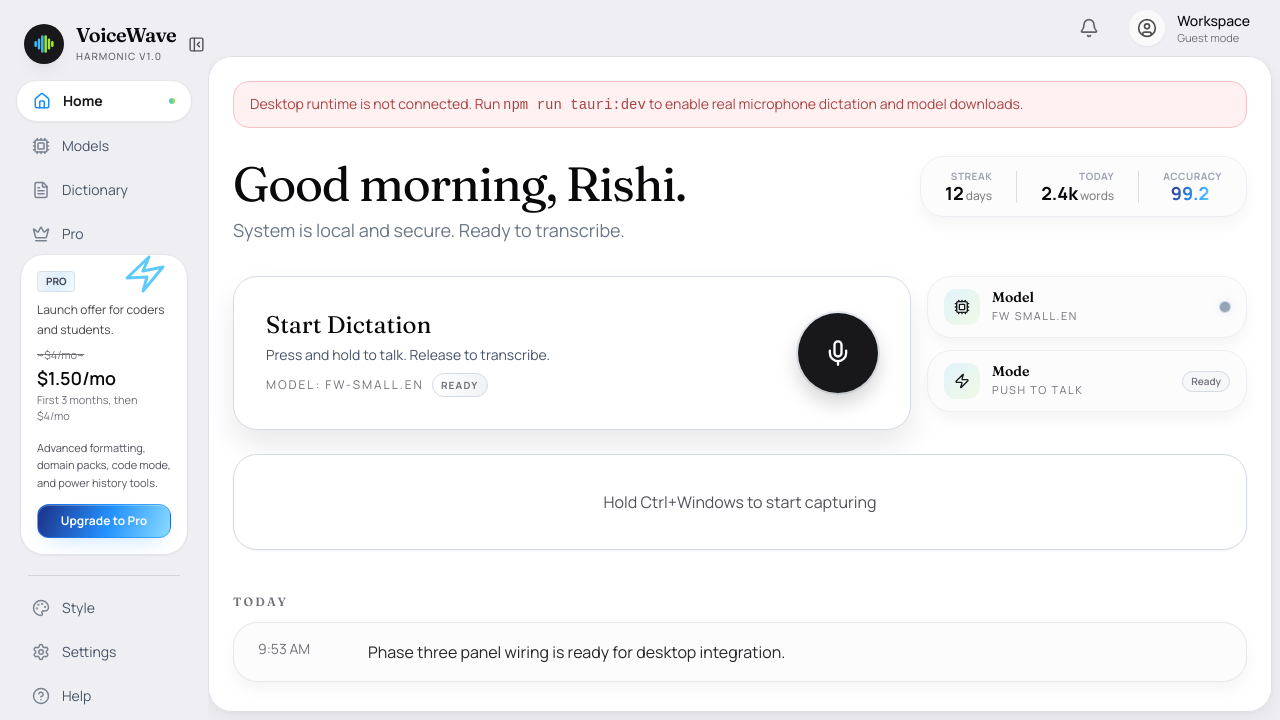
Scenario: App navigation and phase three panels › applies demo sign-in locally and reflects account details in profile
This screenshot has width=1280, height=720.
Step 1. Click the button with aria-label "Open workspace menu" → x=1190, y=28, box top-left (1123, 6), bottom-right (1256, 50)
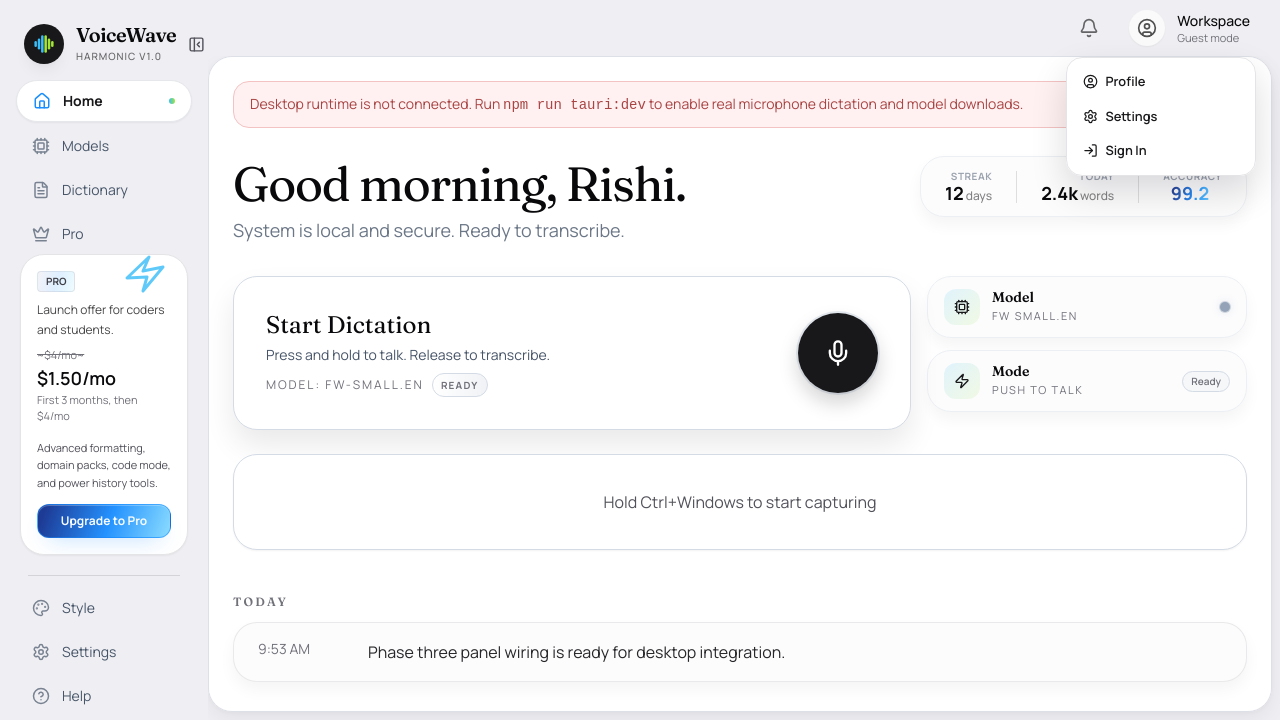
Step 2. Click the menu item "Sign In" → x=1161, y=151, box top-left (1073, 134), bottom-right (1249, 168)
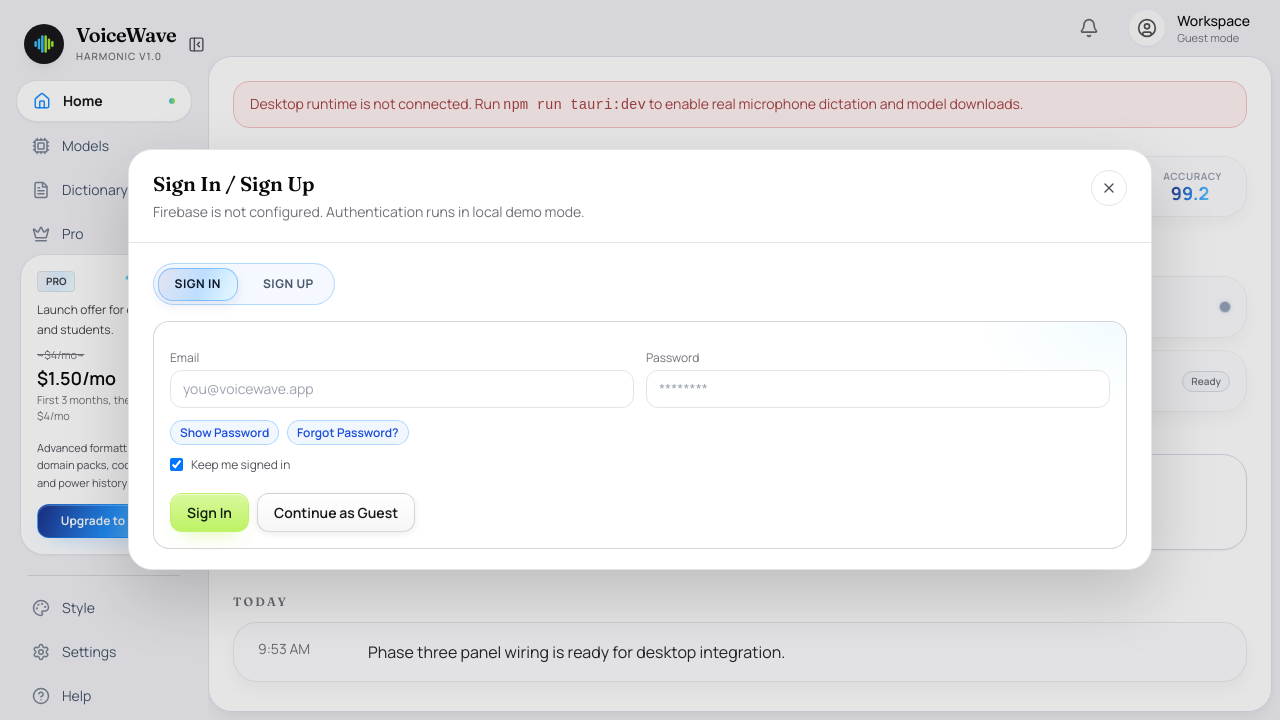
Step 3. Type "alex@voicewave.app" into the field labelled "Email" → x=402, y=390, box top-left (170, 371), bottom-right (634, 409)
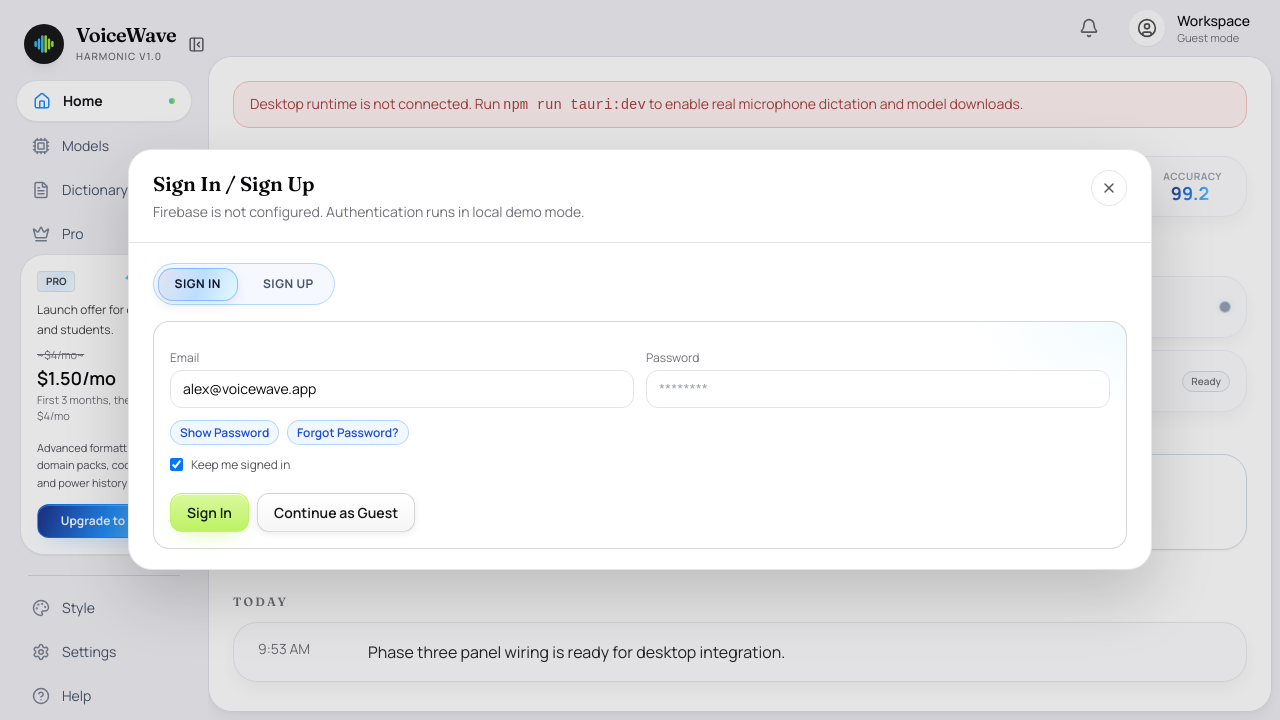
Step 4. Type "pass-1234" into the password field labelled "Password" → x=878, y=390, box top-left (646, 371), bottom-right (1110, 409)
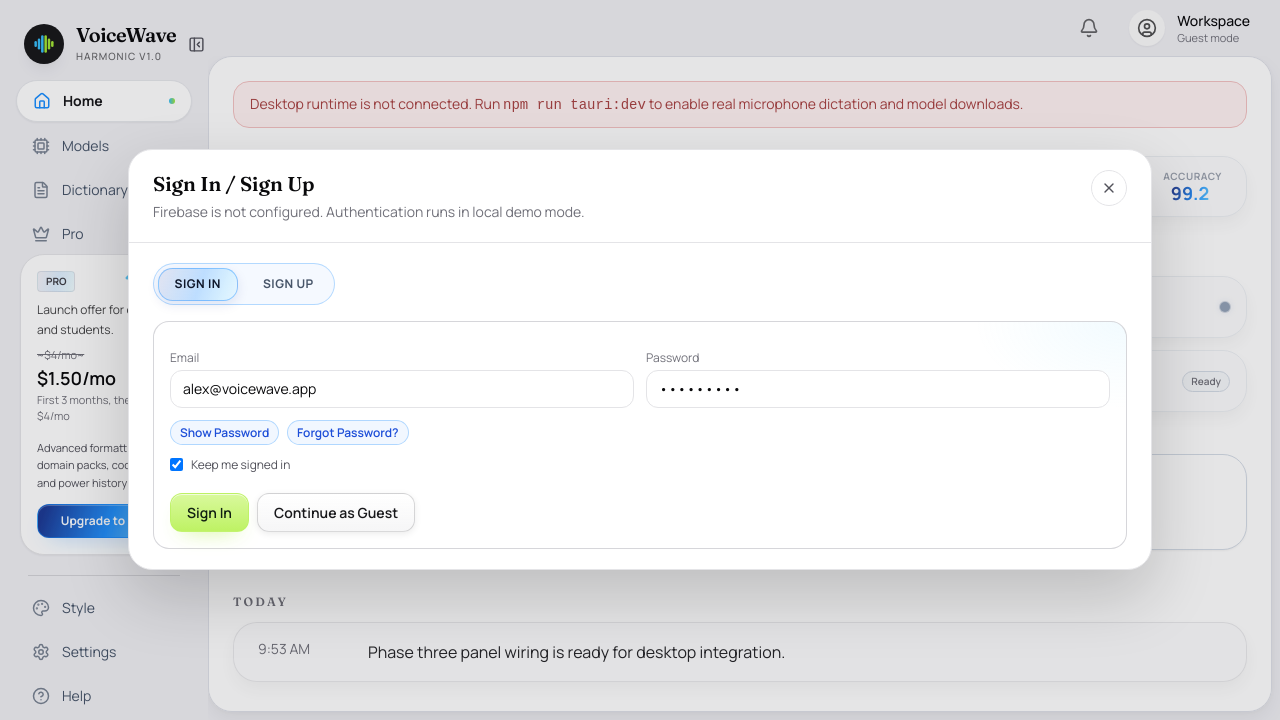
Step 5. Click the button "Sign In" → x=210, y=513, box top-left (170, 494), bottom-right (249, 533)
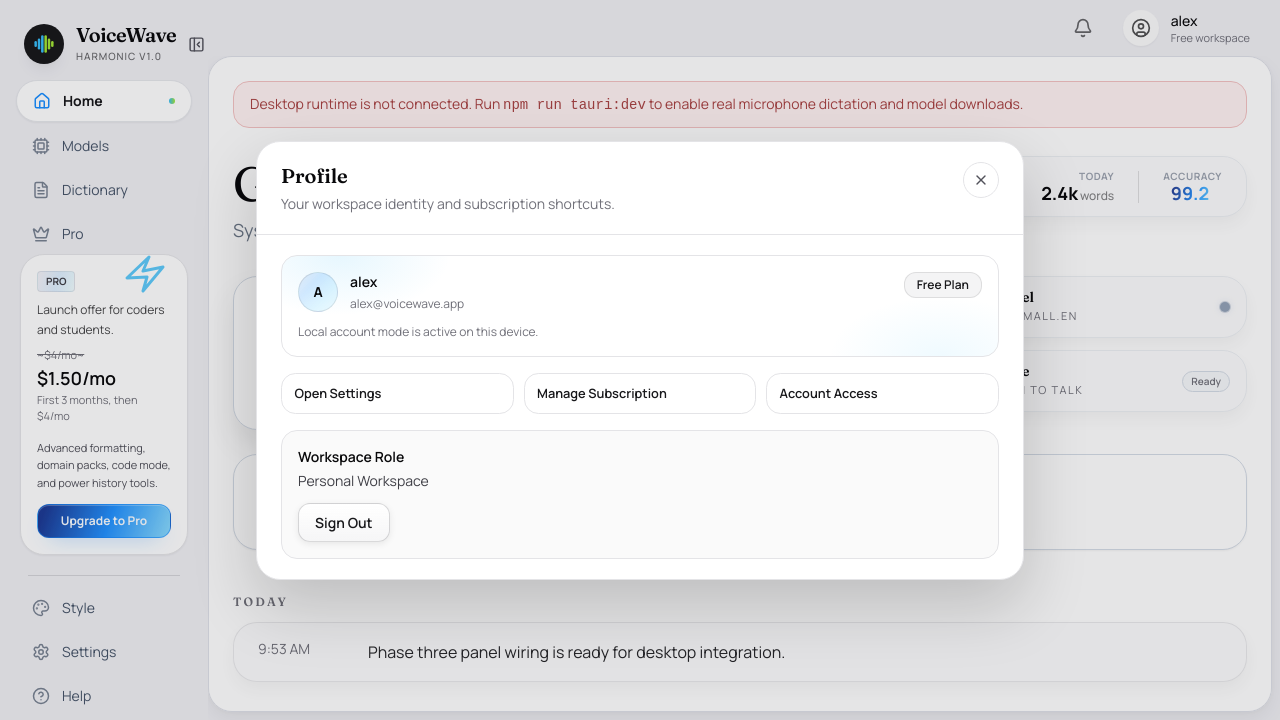
Expected: the text "alex@voicewave.app" is shown, top-left (350, 296), bottom-right (464, 312)
